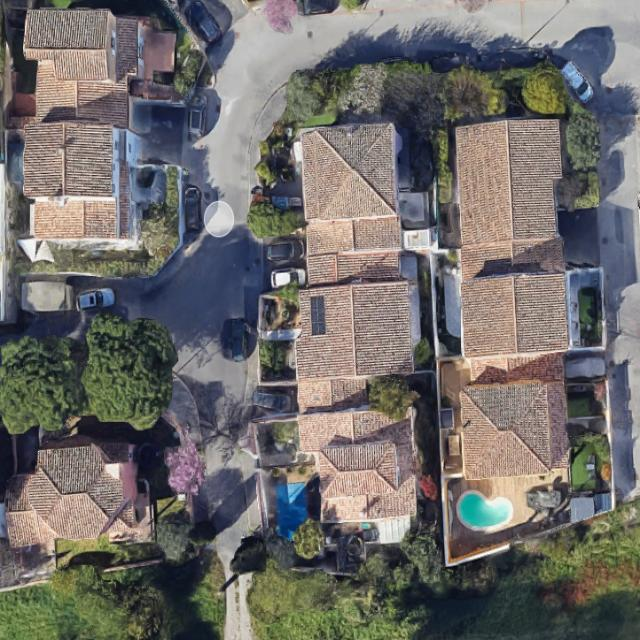maison: (297, 377, 415, 523), (290, 249, 415, 381), (2, 438, 151, 548), (297, 121, 410, 256), (455, 116, 565, 247), (459, 354, 569, 478), (23, 9, 137, 125), (23, 120, 130, 241), (459, 238, 566, 358)
